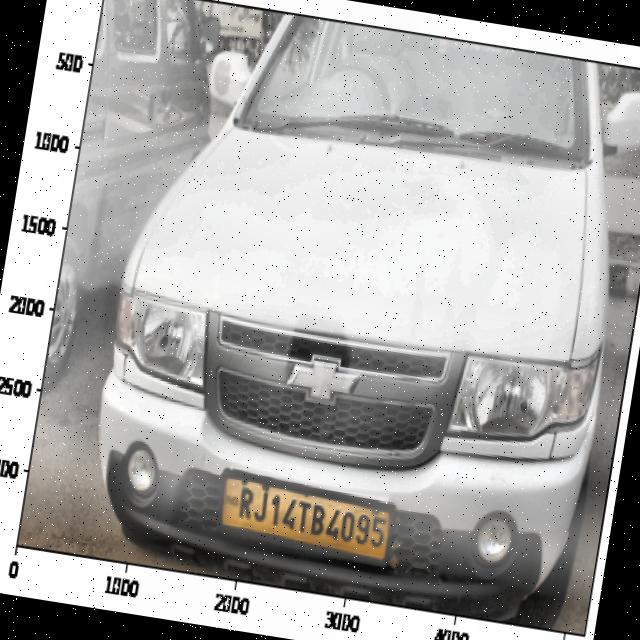license_plate: (227, 476, 392, 558)
